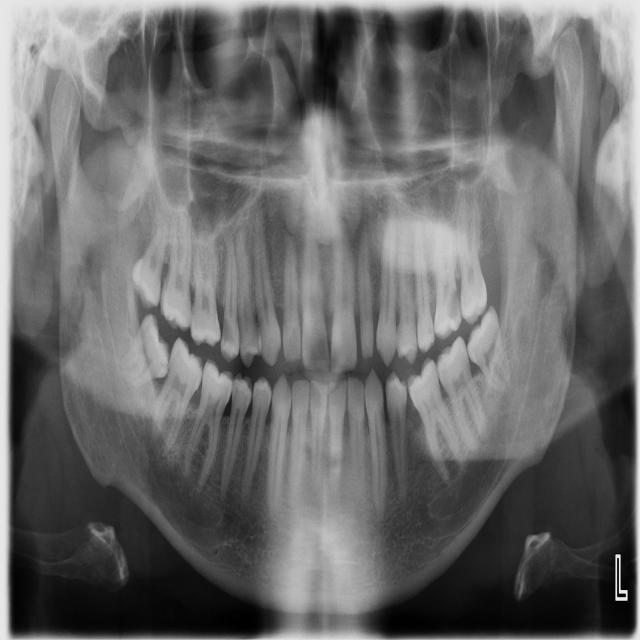mandibula: (47, 32, 586, 616)
